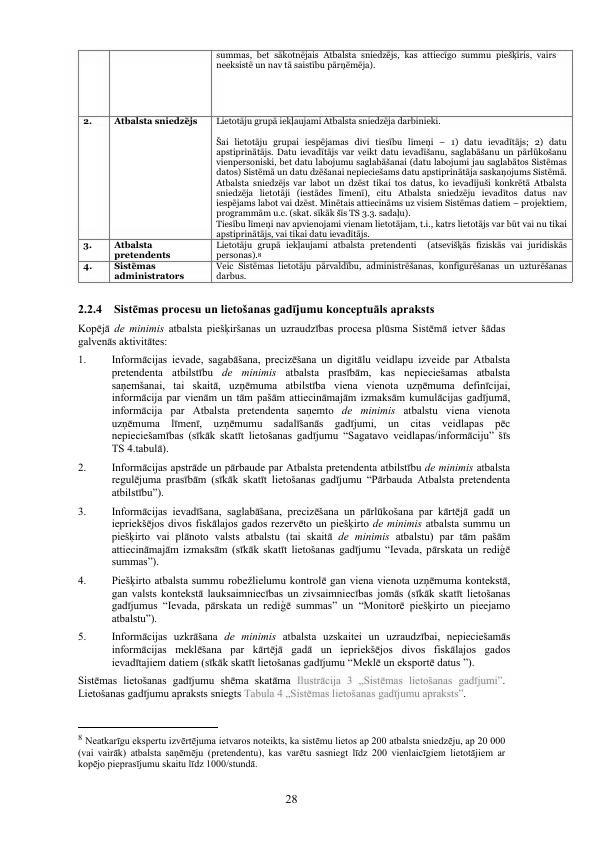table: (73, 44, 580, 287)
text: (71, 321, 512, 703), (75, 733, 514, 778), (74, 300, 441, 317)
